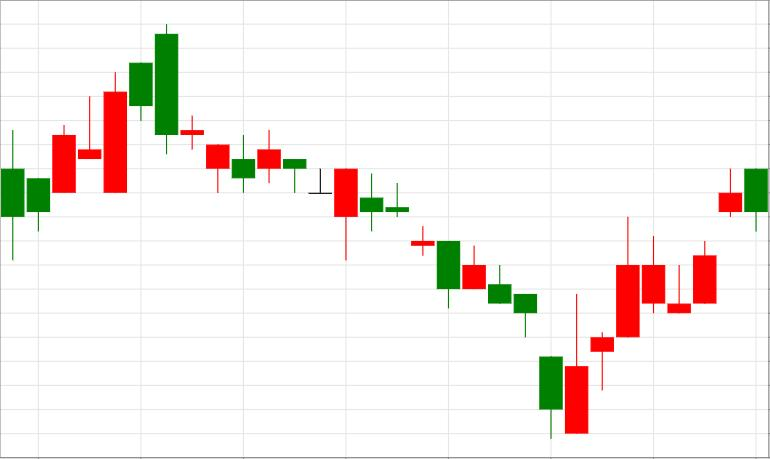bearish_engulfing_fall: (566, 169, 768, 434)
